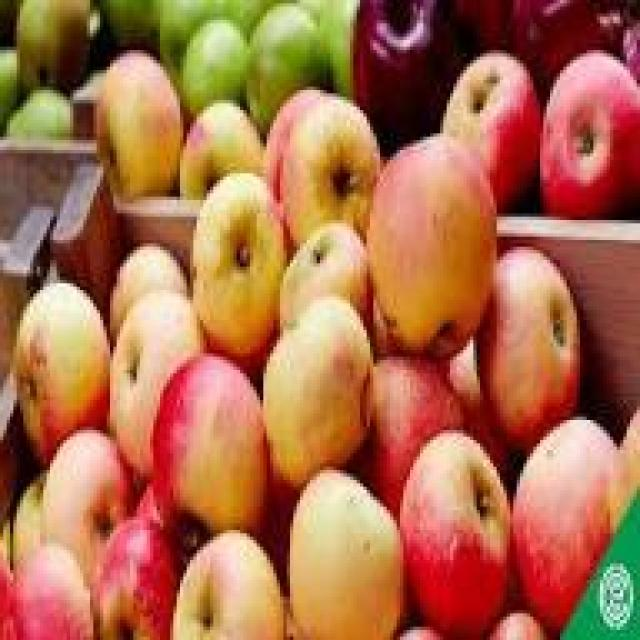apple: (360, 126, 497, 346), (507, 400, 623, 630), (477, 226, 590, 436), (257, 283, 380, 470), (277, 450, 403, 627), (400, 423, 517, 610), (153, 363, 267, 537), (186, 170, 296, 343), (530, 36, 630, 216), (270, 90, 377, 257), (103, 276, 200, 456), (30, 423, 147, 570), (444, 43, 544, 210), (10, 286, 107, 456), (97, 40, 190, 210), (167, 523, 280, 637), (93, 507, 177, 633), (7, 536, 93, 636)
